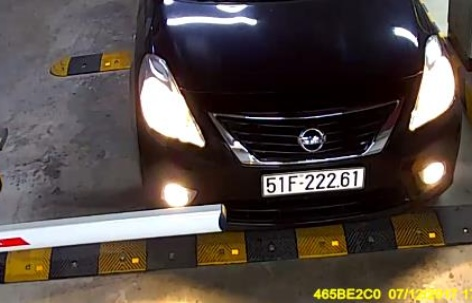plate: (255, 164, 365, 203)
